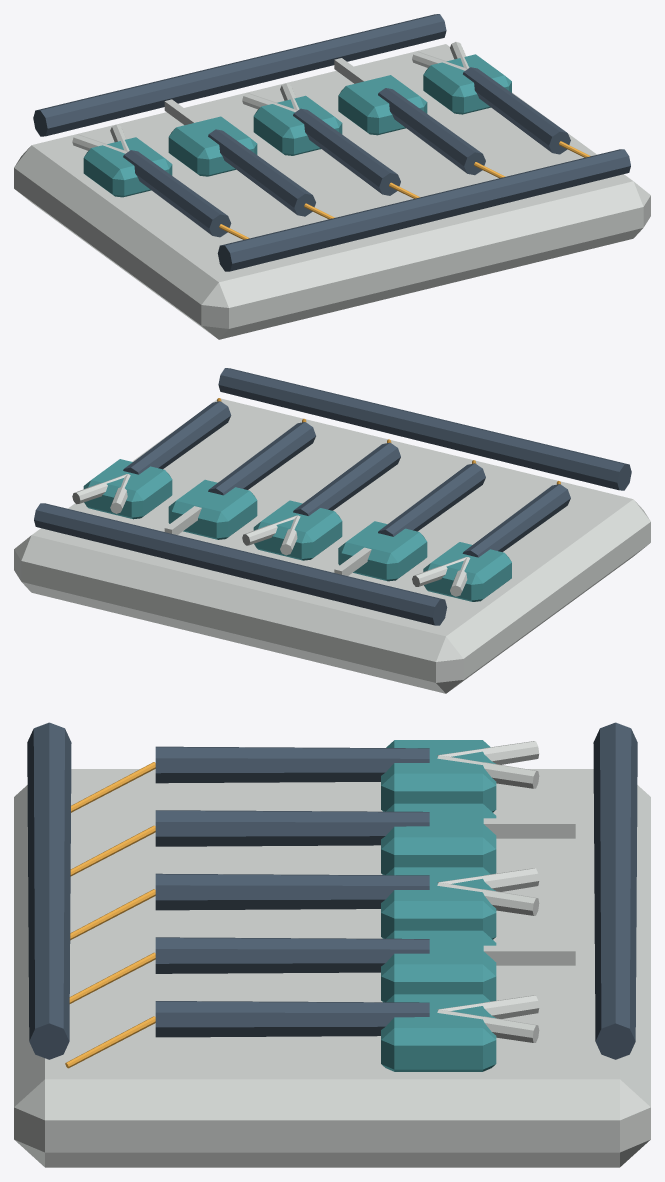
The picture shows the model from 3 angles, top to bottom: view 1: azimuth 30°, elevation 25°; view 2: azimuth 150°, elevation 25°; view 3: azimuth 270°, elevation 25°; orthographic projection. The views are drawn at different scales.
Parts seen in each view (by area): view 1: SI-006 Floating-tool restraint board batched; view 2: SI-006 Floating-tool restraint board batched; view 3: SI-006 Floating-tool restraint board batched.
Boxes of the visible parts, x1,y1,x2,y2 form: SI-006 Floating-tool restraint board batched: [14, 14, 650, 339]; SI-006 Floating-tool restraint board batched: [14, 368, 650, 693]; SI-006 Floating-tool restraint board batched: [14, 722, 650, 1167].
Size of the model in its own units: 0.9 by 0.175 by 0.72.
